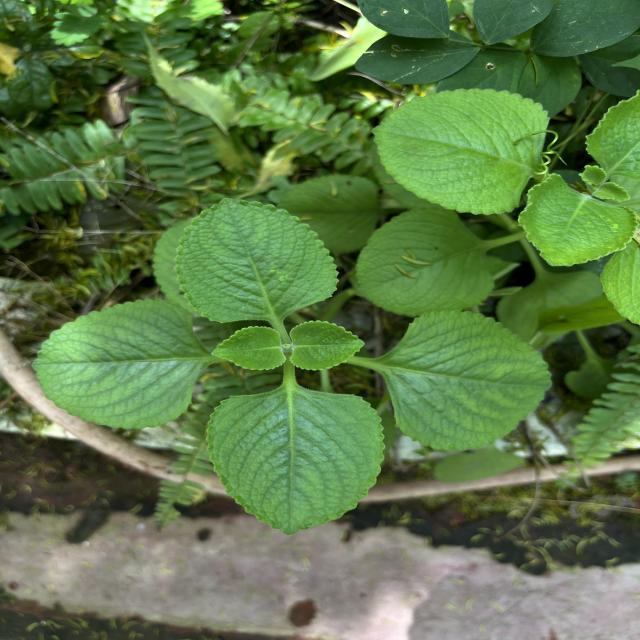Plectranthus barbatus: (204, 388, 388, 538), (382, 307, 554, 453), (31, 296, 206, 432), (371, 87, 551, 217), (173, 196, 340, 325), (354, 204, 496, 318), (516, 174, 639, 268), (289, 319, 366, 371), (210, 324, 287, 372)
